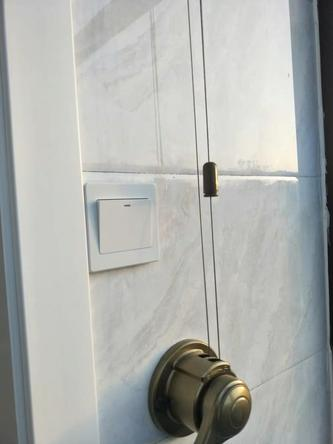switch: (92, 190, 158, 256)
